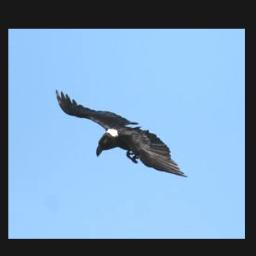Crow: (55, 87, 189, 177)
